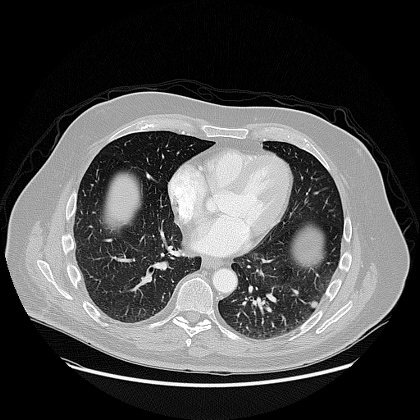PN: (310, 300, 318, 308)
